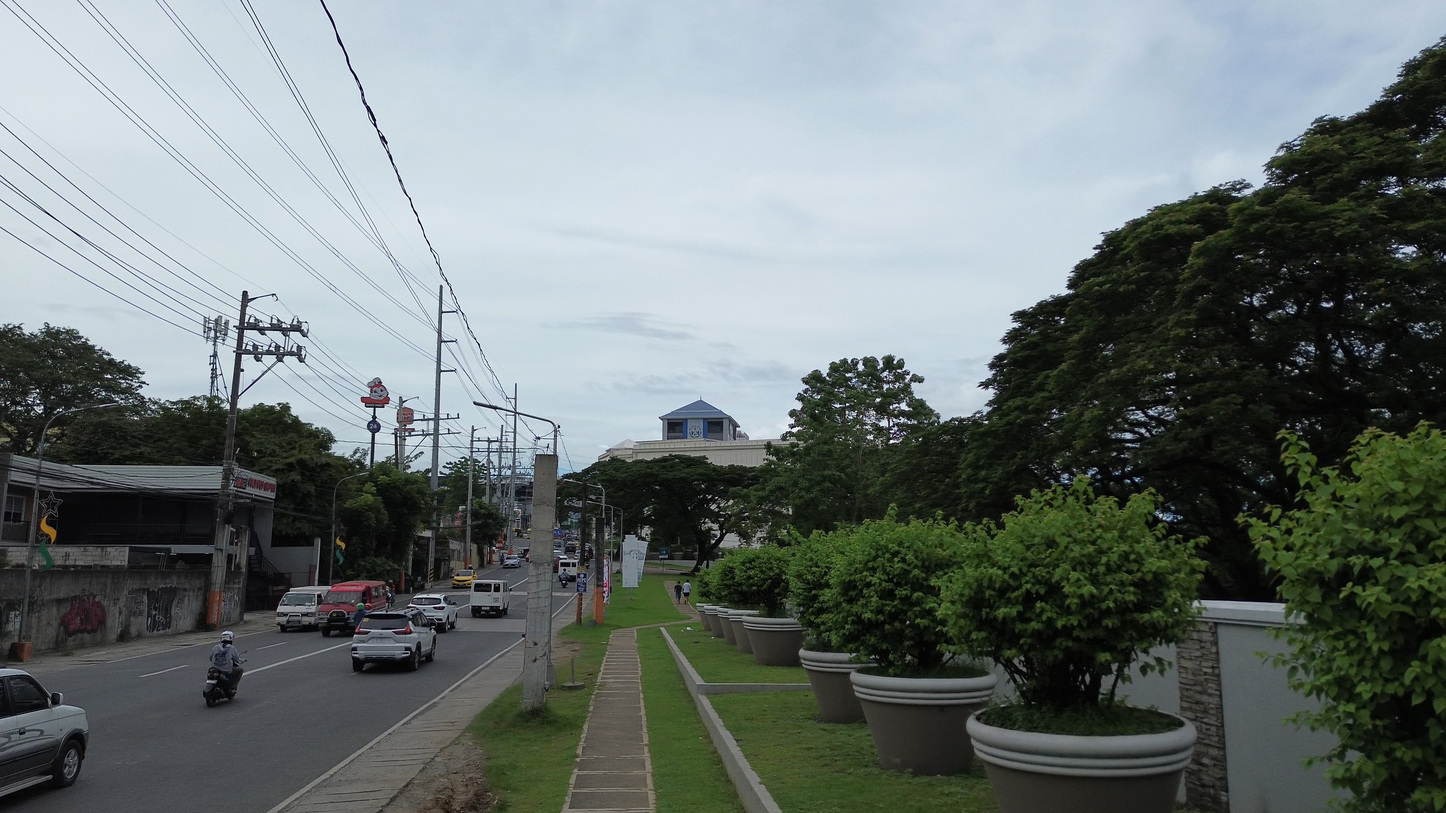vehicle: (0, 668, 88, 796), (351, 607, 436, 671), (317, 581, 390, 636), (276, 586, 331, 632), (408, 594, 459, 632), (470, 580, 510, 617), (203, 667, 238, 707), (557, 558, 578, 582), (451, 569, 476, 588), (502, 555, 521, 568)
